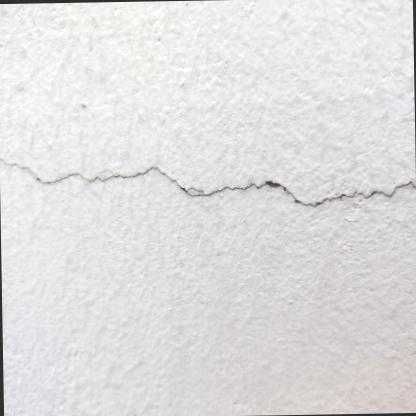crack: (0, 159, 416, 206)
